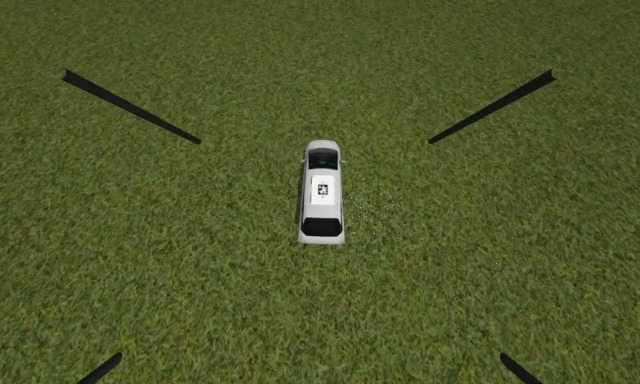Car: (299, 139, 344, 246)
Landing Pad: (311, 176, 336, 207)
